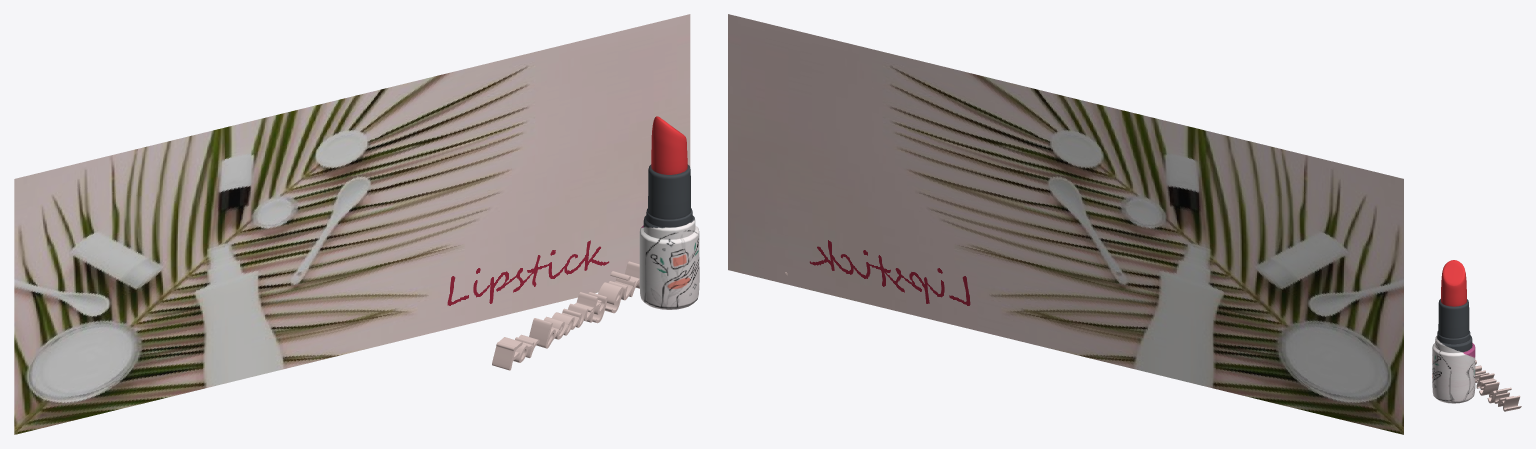
3 views of the same model, side by side, from view 1: azimuth 30°, elevation 25°; view 2: azimuth 150°, elevation 25°; view 3: azimuth 270°, elevation 25° (orthographic). The views are drawn at different scales.
Visible parts, largest first — view 1: node_id6, node_id10, node_id39; view 2: node_id6; view 3: node_id10, node_id39.
Part boxes in pixels (box(x1,y1,x2,y2)): node_id6: box(14, 14, 690, 434); node_id10: box(639, 116, 699, 309); node_id39: box(492, 261, 639, 370); node_id6: box(728, 14, 1403, 434); node_id10: box(1432, 260, 1475, 403); node_id39: box(1435, 342, 1521, 411).
Bounding box in the file's own units: 0.512 × 0.1876 × 0.0816.
Materials: 3 (3 with a texture image).
